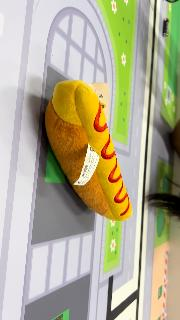hotdog: (44, 80, 134, 222)
